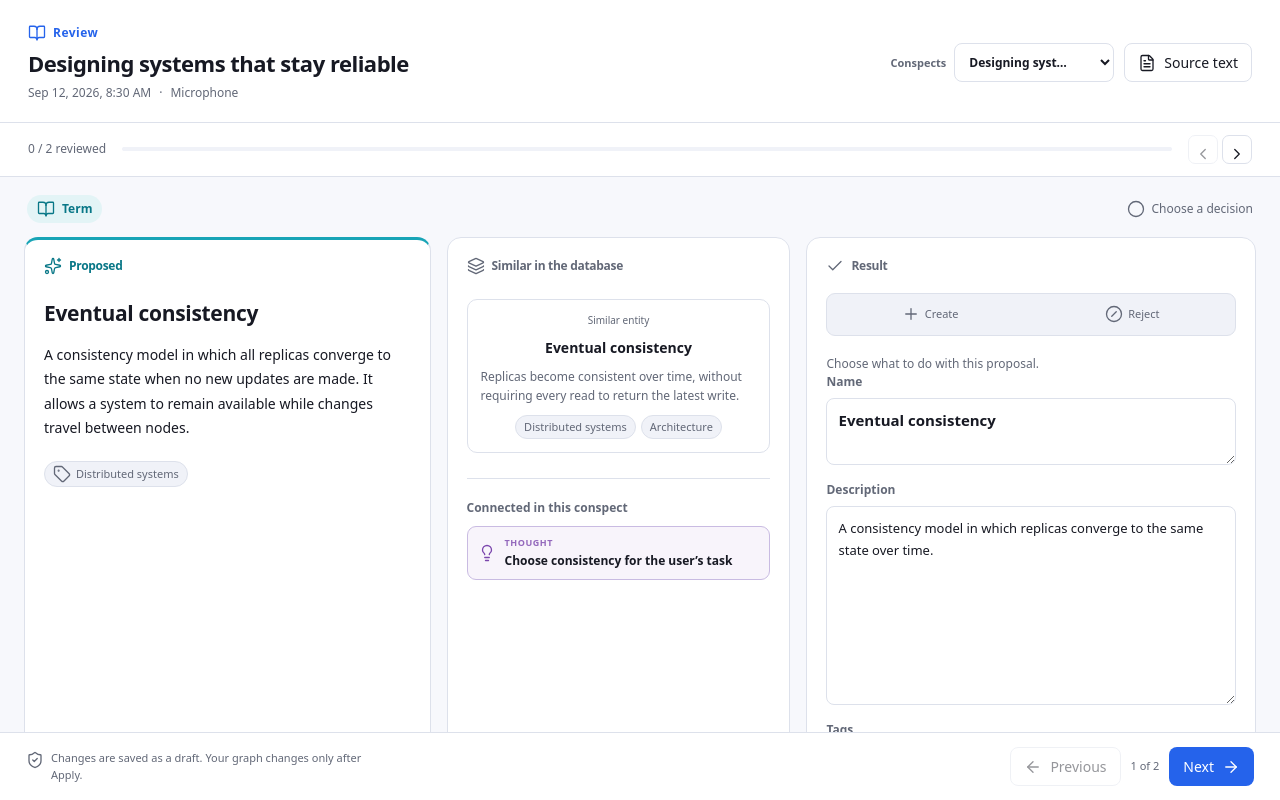
it: Review flow › blocks accepting a thought while one of its terms is rejected
Expected: the text box labelled "Name" is shown, [826,398,1236,465]
Click the button "Reject" at (1132, 314), box [1033,297,1232,332]
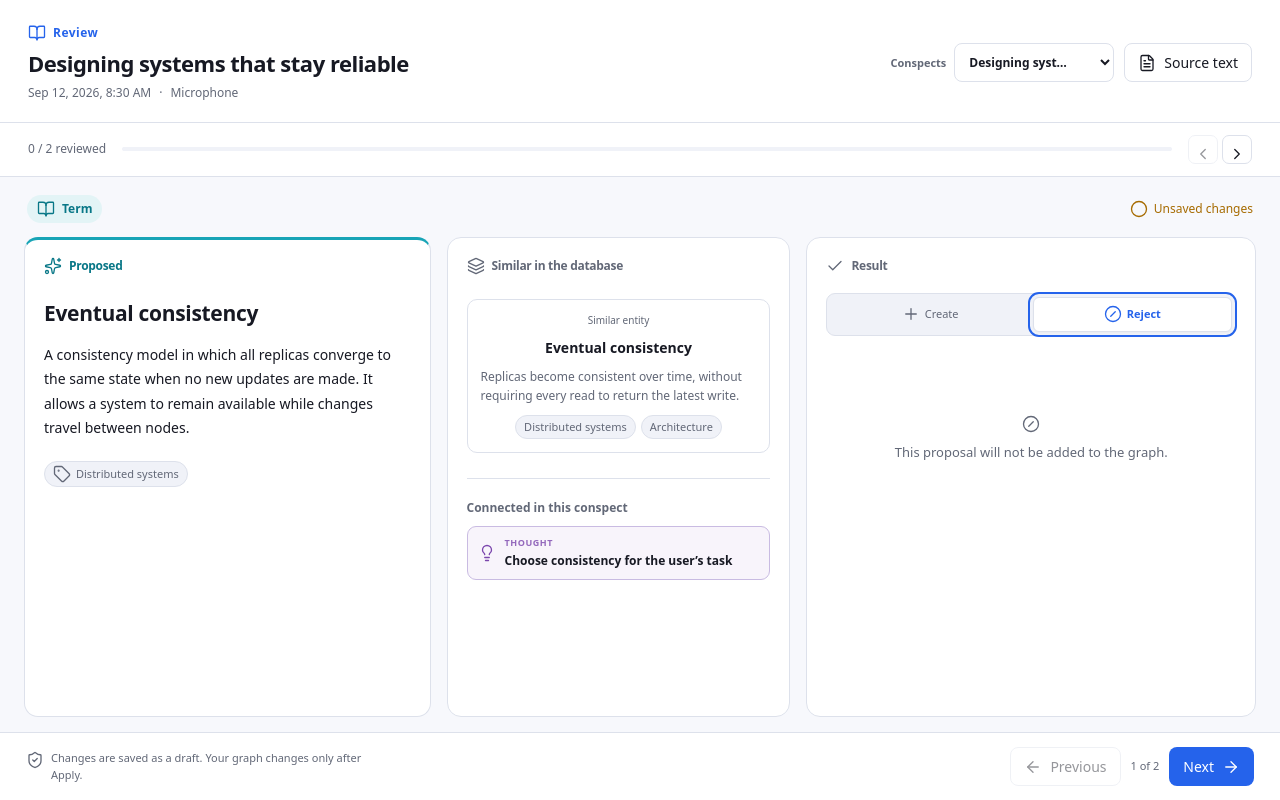
Click the button "Next" at (1212, 766), box [1169,747,1254,786]
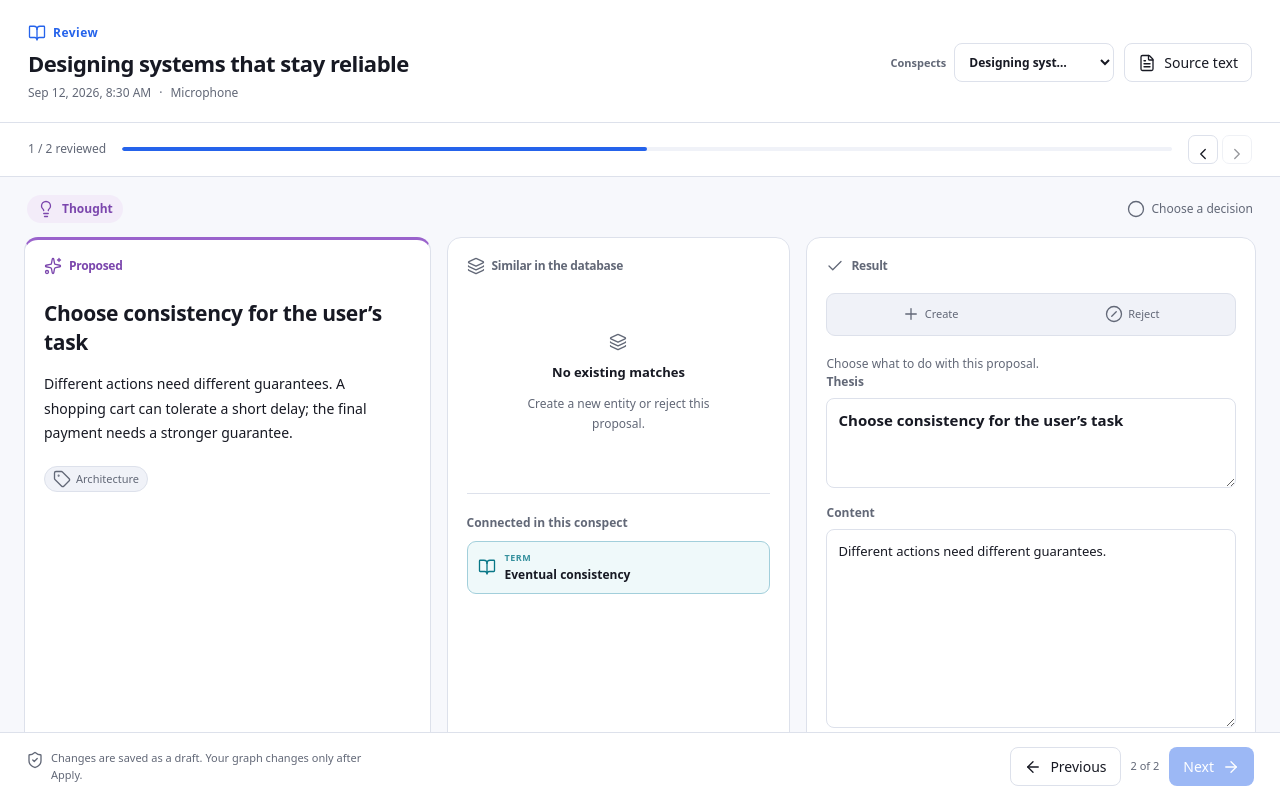
Click the button "Create" at (930, 314), box [830,297,1030,332]
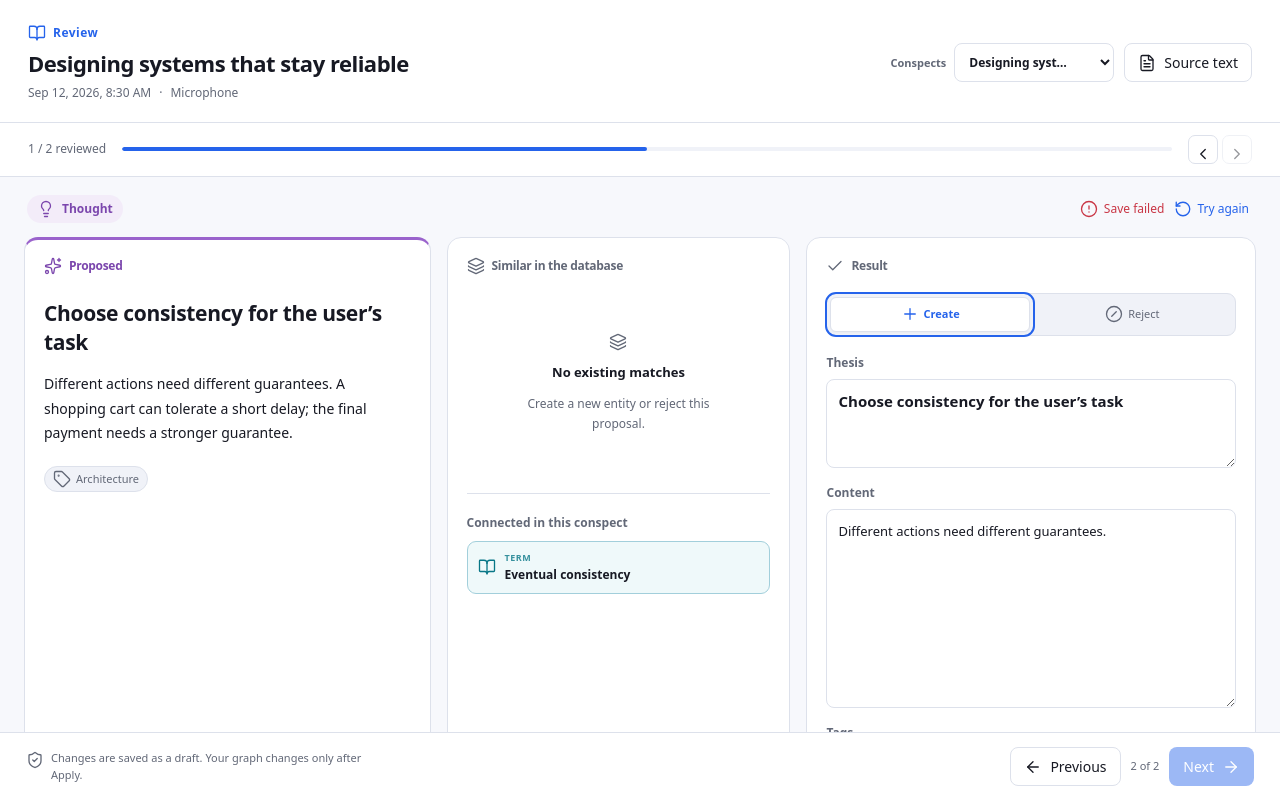
Expected: the text "Save failed" is shown, [1104,200,1164,218]
